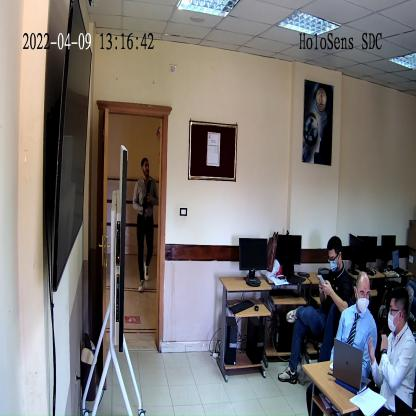handgun: (141, 177, 151, 219)
